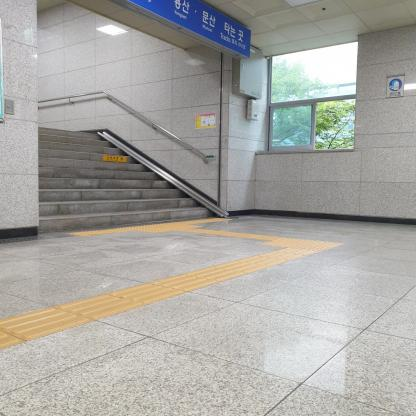go: (0, 307, 95, 341), (52, 294, 148, 320), (105, 283, 190, 305), (146, 274, 222, 292), (182, 267, 248, 282)
